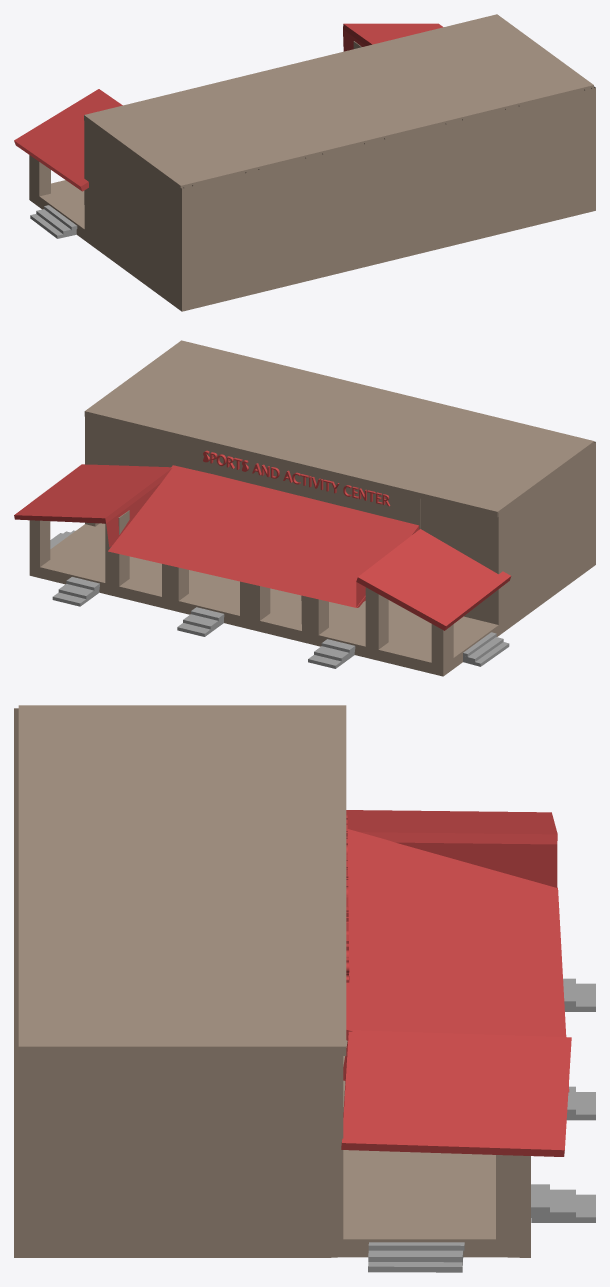
File: Sports_Buidling_fyp2.fbx
The picture shows the model from 3 angles, top to bottom: view 1: azimuth 30°, elevation 25°; view 2: azimuth 150°, elevation 25°; view 3: azimuth 270°, elevation 25°; orthographic projection. The views are drawn at different scales.
Visible parts, largest first — view 1: pCube17; view 2: pCube17; view 3: pCube17.
Boxes of the visible parts, x1,y1,x2,y2 form: pCube17: (14,14,595,311); pCube17: (14,340,595,676); pCube17: (14,705,595,1272).
Size of the model in its own units: 1337 by 354 by 884.
